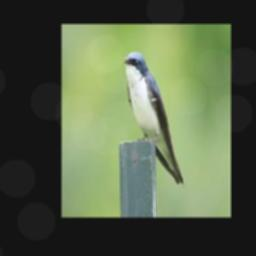Swallow: (122, 52, 184, 185)
